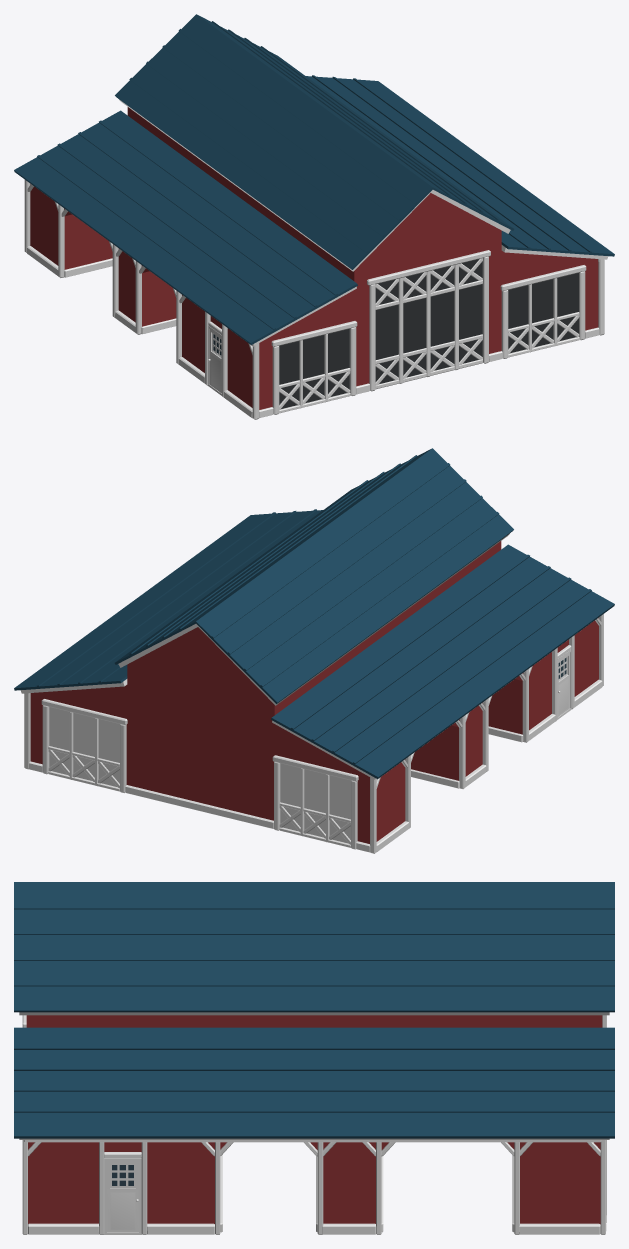
3 views of the same model, one above another, from view 1: azimuth 30°, elevation 25°; view 2: azimuth 150°, elevation 25°; view 3: azimuth 270°, elevation 25° (orthographic). The views are drawn at different scales.
Visible parts, largest first — view 1: farmbuilding_05.001; view 2: farmbuilding_05.001; view 3: farmbuilding_05.001.
Part boxes in pixels (<box>): farmbuilding_05.001: <box>14,14,614,419</box>; farmbuilding_05.001: <box>14,448,614,853</box>; farmbuilding_05.001: <box>14,882,614,1234</box>.
Size of the model in its own units: 14.84 by 7.51 by 16.7.
1 material, 1 textured.
